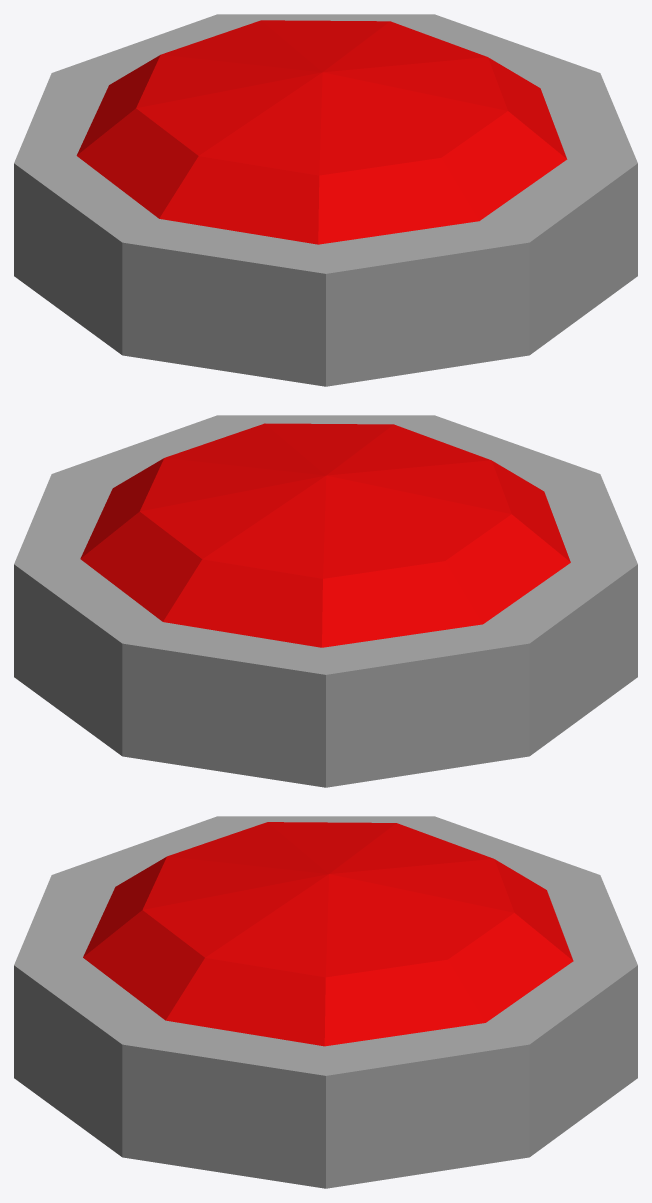
File: LED.fbx
The picture shows the model from 3 angles, top to bottom: view 1: azimuth 30°, elevation 25°; view 2: azimuth 150°, elevation 25°; view 3: azimuth 270°, elevation 25°; orthographic projection.
Parts seen in each view (by area): view 1: pCylinder18; view 2: pCylinder18; view 3: pCylinder18.
Boxes of the visible parts, <box> form: pCylinder18: <box>14,14,637,386</box>; pCylinder18: <box>14,415,637,787</box>; pCylinder18: <box>14,816,637,1188</box>.
Size of the model in its own units: 20.59 by 6.65 by 20.9.
